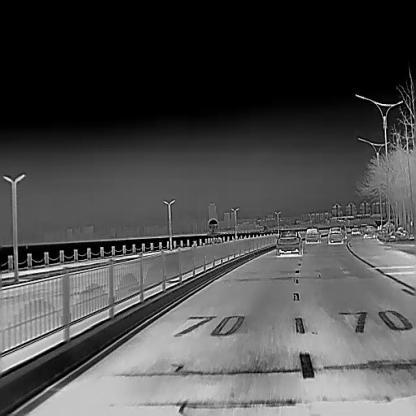car: (275, 230, 303, 254), (304, 227, 321, 243), (327, 226, 343, 242), (363, 224, 378, 238), (338, 224, 347, 238), (351, 224, 359, 234)
